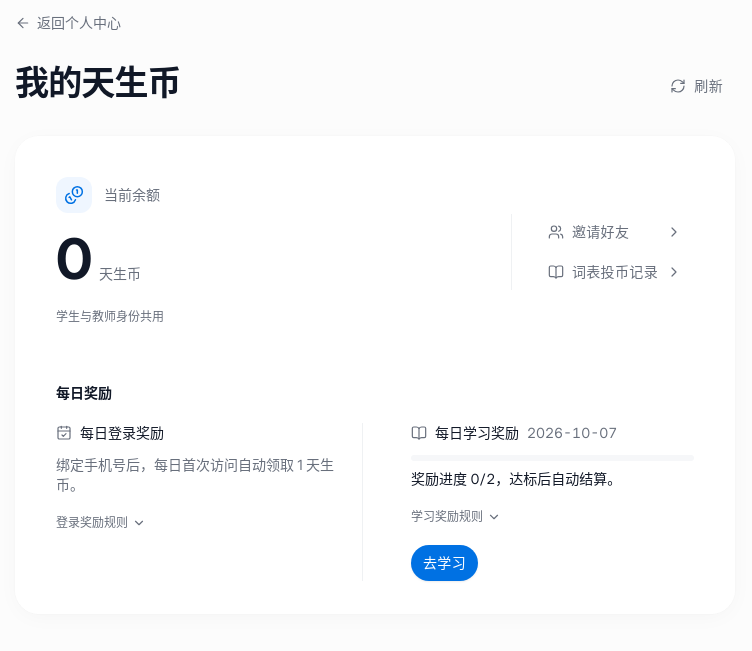
it: manual refresh also reloads rewards earned on another device
Expected: the text "奖励进度 0/2，达标后自动结算。" is shown, x1=411 y1=470 x2=621 y2=488
What coordinates should you click on to do the following:
click the button "刷新"
I would click on:
 (697, 86)
Its box is x1=658 y1=68 x2=735 y2=104.
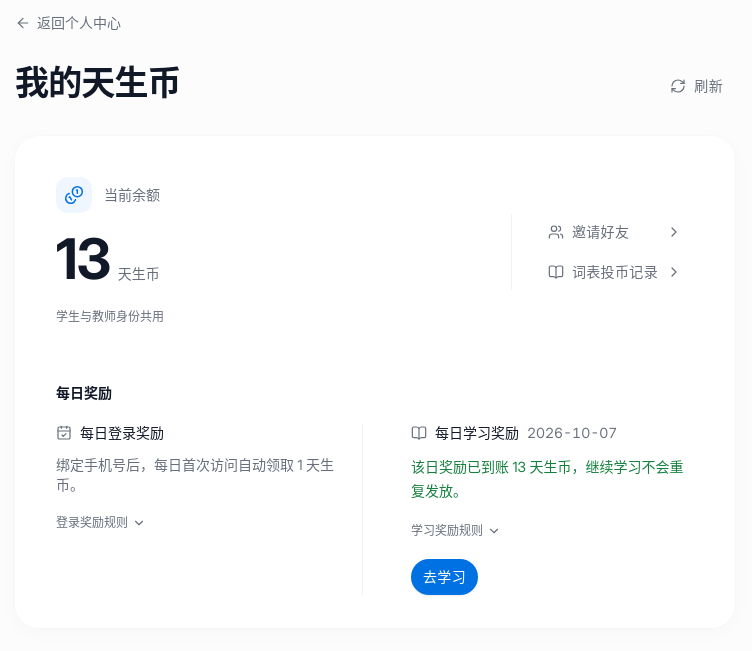
Now the text "该日奖励已到账 13 天生币，继续学习不会重复发放。" is shown, box x1=411 y1=455 x2=694 y2=503
Now the element labelled "13 天生币" is shown, box x1=56 y1=225 x2=160 y2=295
